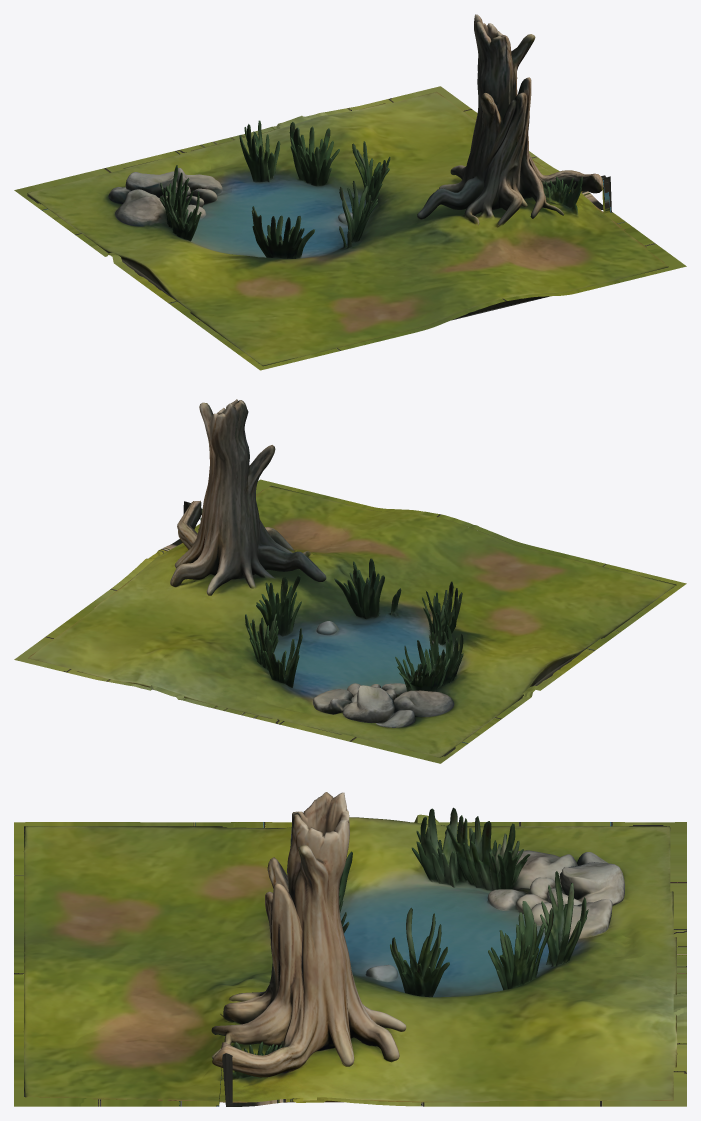
Rendered from terrain4.glb.
3 views of the same model, one above another, from view 1: azimuth 30°, elevation 25°; view 2: azimuth 150°, elevation 25°; view 3: azimuth 270°, elevation 25° (orthographic). The views are drawn at different scales.
Parts seen in each view (by area): view 1: tripo_node_2dc3ef6a-7efc-45fd-bbb1-caca59453c56; view 2: tripo_node_2dc3ef6a-7efc-45fd-bbb1-caca59453c56; view 3: tripo_node_2dc3ef6a-7efc-45fd-bbb1-caca59453c56.
Boxes of the visible parts, bbox=[...] form: tripo_node_2dc3ef6a-7efc-45fd-bbb1-caca59453c56: bbox=[14, 14, 686, 370]; tripo_node_2dc3ef6a-7efc-45fd-bbb1-caca59453c56: bbox=[14, 399, 686, 763]; tripo_node_2dc3ef6a-7efc-45fd-bbb1-caca59453c56: bbox=[14, 792, 686, 1106].
Bounding box in the file's own units: 100 × 43.84 × 100.
1 material, 1 textured.
